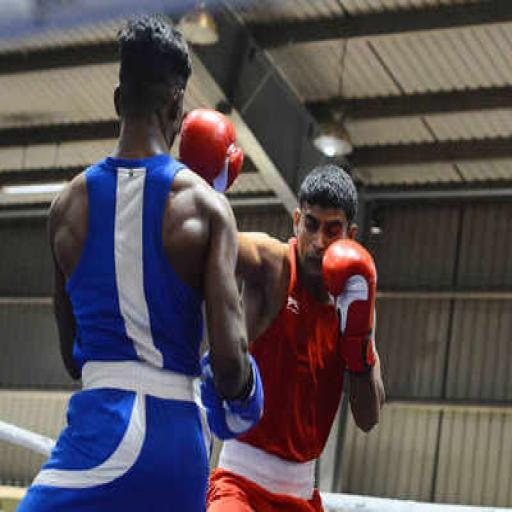boxing: (179, 78, 512, 512), (14, 14, 265, 510)
